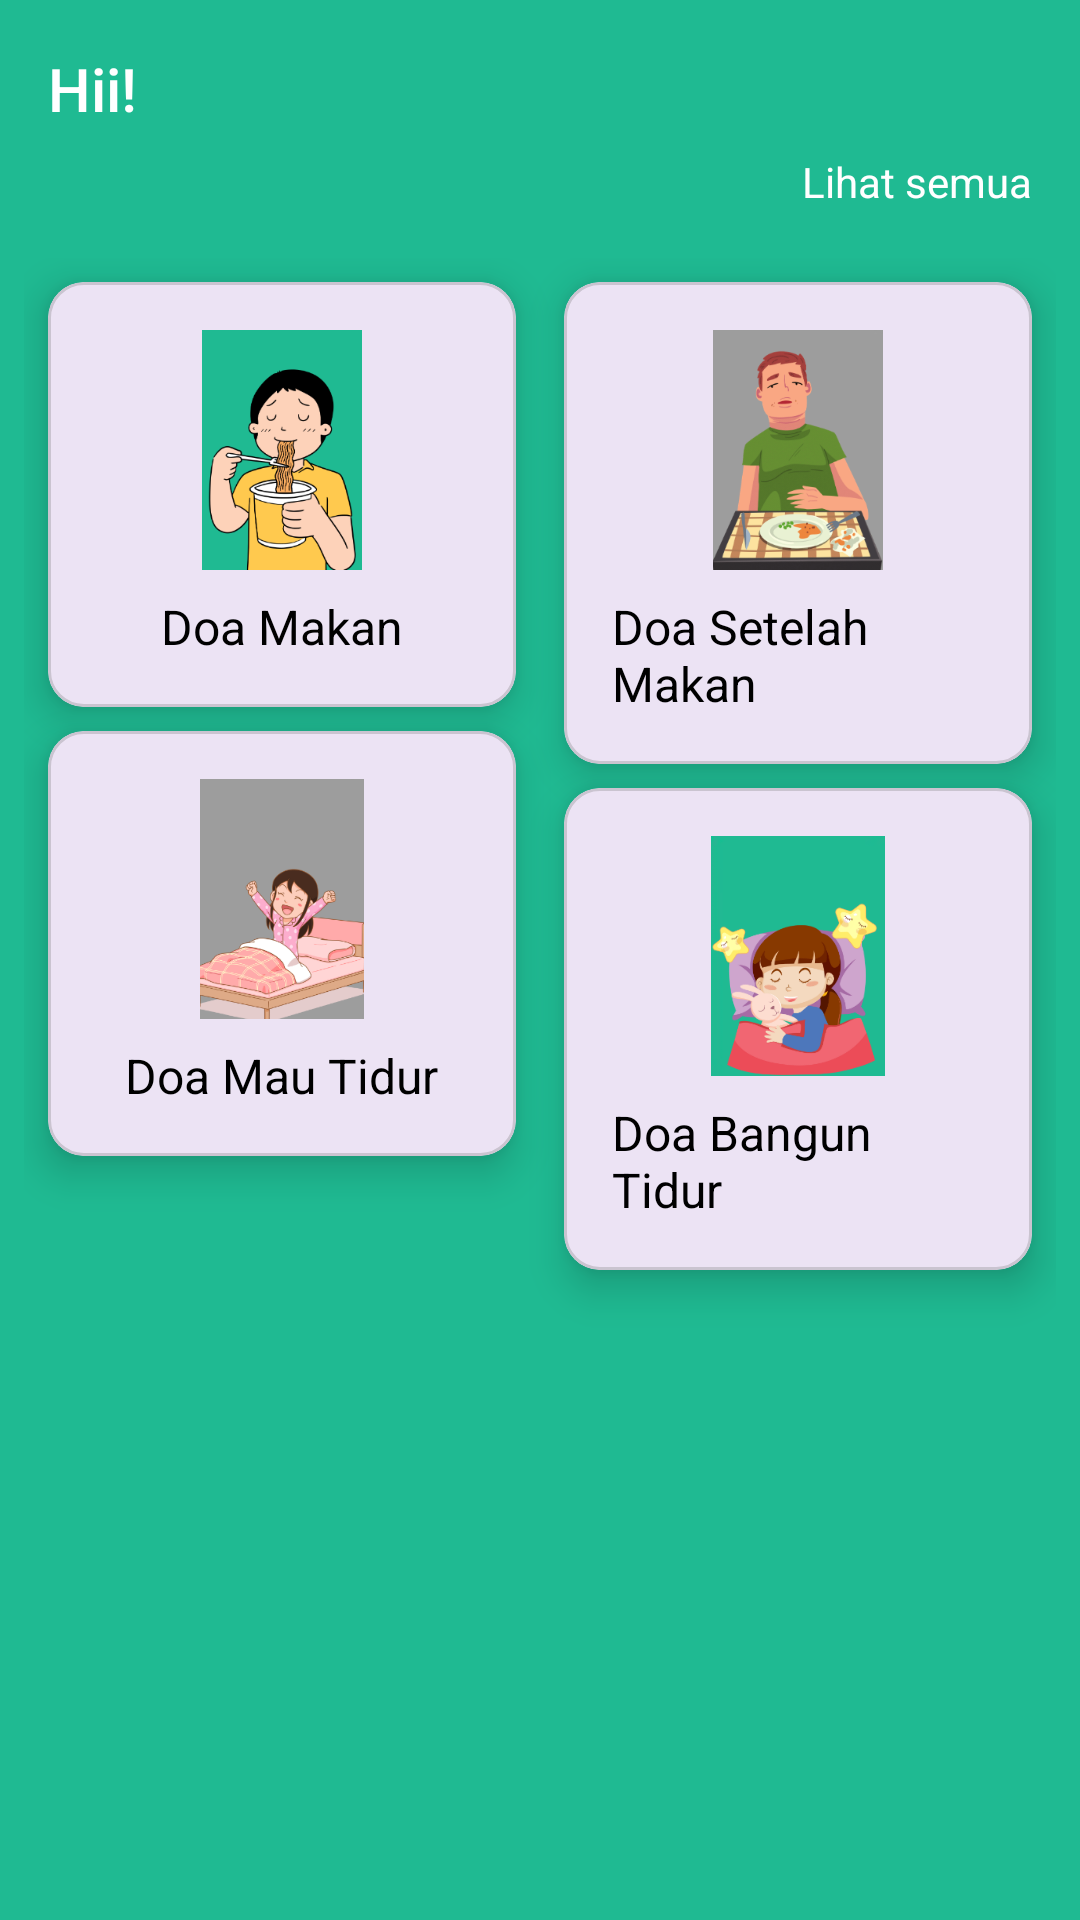

Locate icon controls on the screen. Image size 1080x1920, boxes as (x1, y1, x2, y2).
bangun tidur: (200, 779, 364, 1019)
sudah makan: (713, 330, 883, 570)
